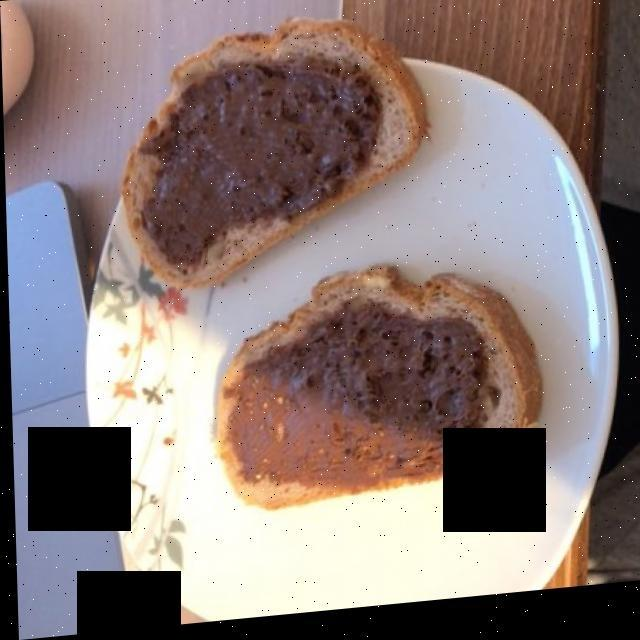bread: (124, 26, 536, 504)
nutella: (144, 74, 480, 483)
